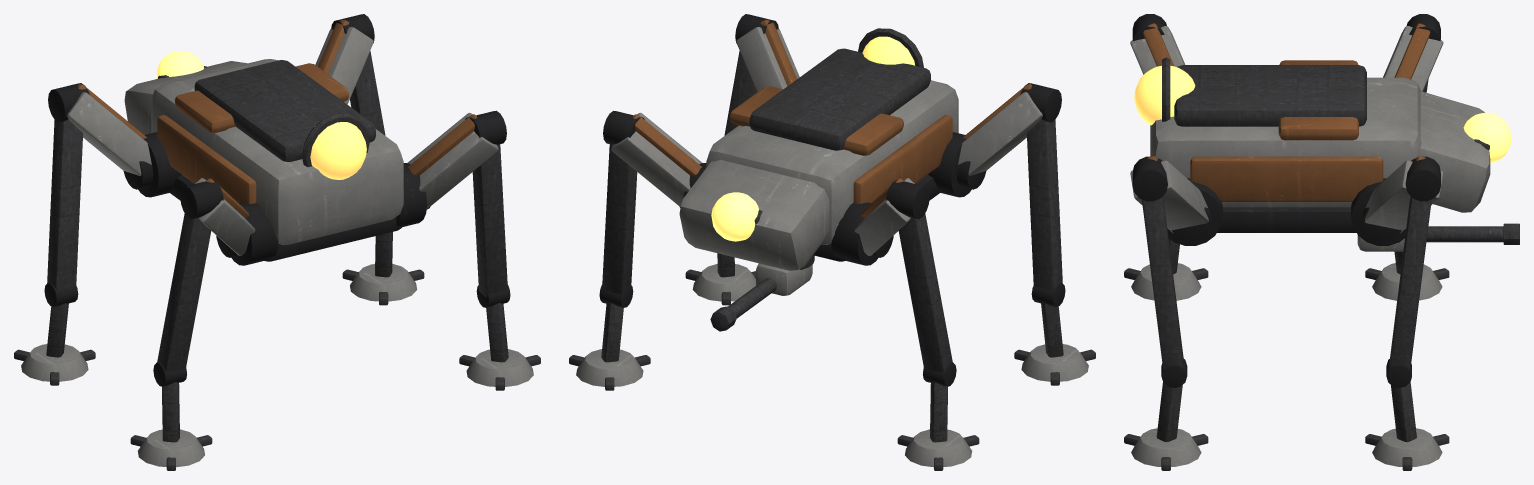
Rendered from arc_stalker.glb.
3 renders of one model, left to right at view 1: azimuth 30°, elevation 25°; view 2: azimuth 150°, elevation 25°; view 3: azimuth 270°, elevation 25°, orthographic. The views are drawn at different scales.
Visible parts, largest first — view 1: stalker_hull, stalker_leg_fr_lower, stalker_leg_br_lower, stalker_leg_bl_lower, stalker_leg_fr, stalker_leg_bl, stalker_leg_br_foot, stalker_leg_fr_foot, stalker_leg_bl_foot, stalker_core, stalker_leg_fl_foot, stalker_leg_fl (+3 smaller); view 2: stalker_hull, stalker_leg_br_lower, stalker_leg_fr_lower, stalker_leg_fl_lower, stalker_leg_br, stalker_leg_fl, stalker_leg_fr_foot, stalker_leg_br_foot, stalker_leg_fl_foot, stalker_leg_bl, stalker_gun, stalker_leg_bl_foot (+4 smaller); view 3: stalker_hull, stalker_leg_bl_lower, stalker_leg_fl_lower, stalker_leg_bl_foot, stalker_leg_fl_foot, stalker_leg_bl, stalker_leg_fl, stalker_core, stalker_leg_fr, stalker_gun, stalker_leg_br_foot, stalker_leg_fr_foot (+4 smaller).
Boxes of the visible parts, bbox=[...] form: stalker_hull: bbox=[124, 59, 427, 265]; stalker_leg_fr_lower: bbox=[47, 83, 89, 290]; stalker_leg_br_lower: bbox=[157, 180, 223, 372]; stalker_leg_bl_lower: bbox=[465, 110, 507, 297]; stalker_leg_fr: bbox=[67, 84, 153, 189]; stalker_leg_bl: bbox=[407, 112, 498, 209]; stalker_leg_br_foot: bbox=[130, 362, 212, 470]; stalker_leg_fr_foot: bbox=[14, 283, 95, 385]; stalker_leg_bl_foot: bbox=[459, 284, 540, 390]; stalker_core: bbox=[302, 113, 369, 179]; stalker_leg_fl_foot: bbox=[342, 232, 424, 305]; stalker_leg_fl: bbox=[315, 20, 373, 104]; stalker_hull: bbox=[679, 48, 971, 270]; stalker_leg_br_lower: bbox=[1020, 83, 1062, 290]; stalker_leg_fr_lower: bbox=[886, 180, 952, 372]; stalker_leg_fl_lower: bbox=[602, 110, 644, 297]; stalker_leg_br: bbox=[956, 84, 1042, 189]; stalker_leg_fl: bbox=[611, 112, 702, 207]; stalker_leg_fr_foot: bbox=[897, 362, 979, 470]; stalker_leg_br_foot: bbox=[1014, 283, 1095, 385]; stalker_leg_fl_foot: bbox=[569, 284, 650, 390]; stalker_leg_bl: bbox=[736, 20, 799, 92]; stalker_gun: bbox=[710, 255, 814, 331]; stalker_leg_bl_foot: bbox=[685, 253, 755, 305]; stalker_hull: bbox=[1150, 60, 1490, 245]; stalker_leg_bl_lower: bbox=[1132, 156, 1183, 369]; stalker_leg_fl_lower: bbox=[1389, 156, 1440, 369]; stalker_leg_bl_foot: bbox=[1124, 359, 1208, 470]; stalker_leg_fl_foot: bbox=[1365, 359, 1449, 470]; stalker_leg_bl: bbox=[1130, 156, 1211, 241]; stalker_leg_fl: bbox=[1362, 156, 1443, 241]; stalker_core: bbox=[1134, 57, 1195, 125]; stalker_leg_fr: bbox=[1383, 23, 1443, 91]; stalker_gun: bbox=[1357, 223, 1519, 251]; stalker_leg_br_foot: bbox=[1124, 238, 1208, 300]; stalker_leg_fr_foot: bbox=[1365, 251, 1449, 300].
Bounding box in the file's own units: 2.94 × 2.12 × 2.46.
Materials: 6 (4 with a texture image).
